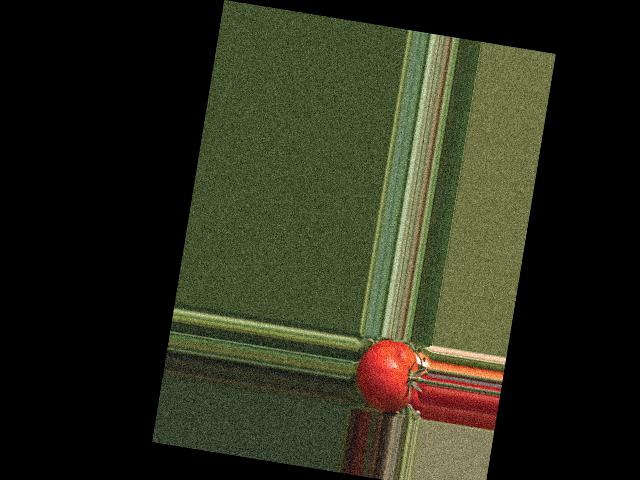tomato: (351, 335, 423, 415)
